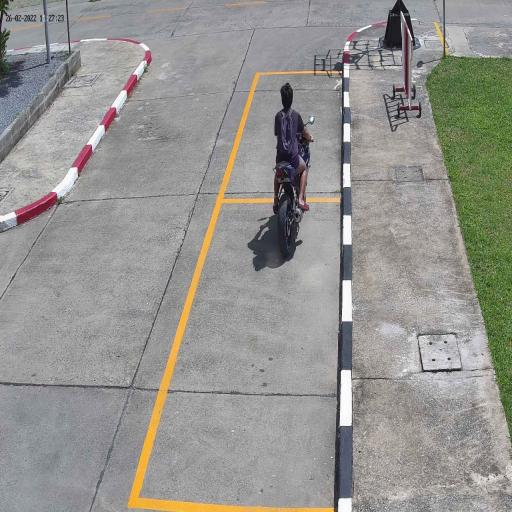motorcycle: (274, 164, 301, 258)
